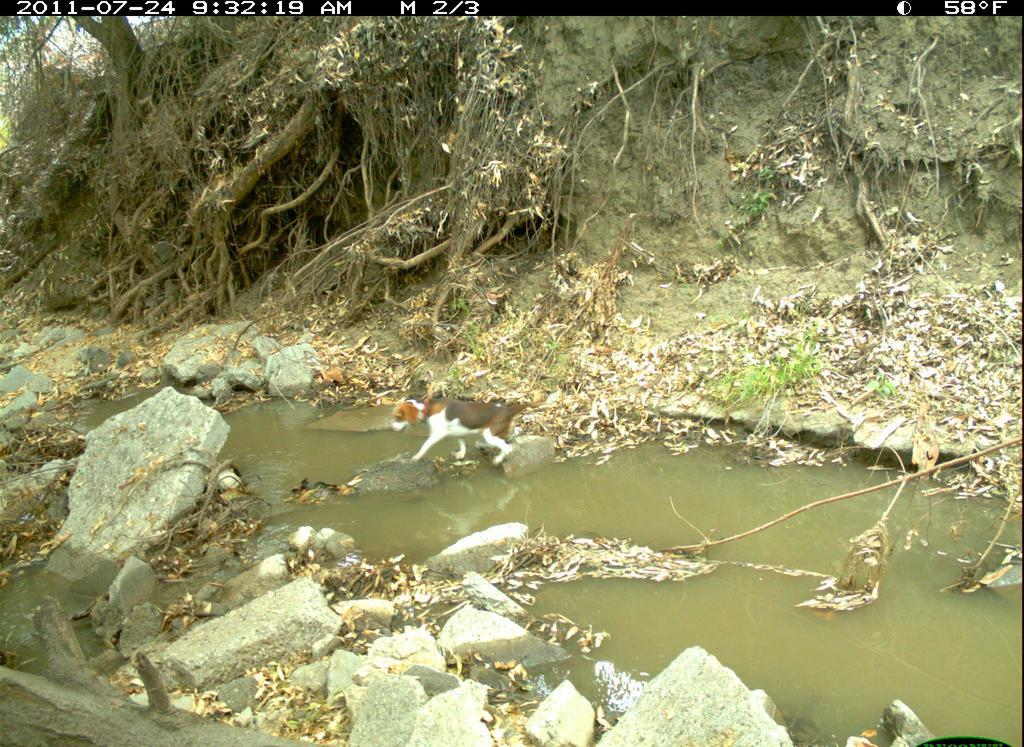dog: (392, 387, 546, 498)
